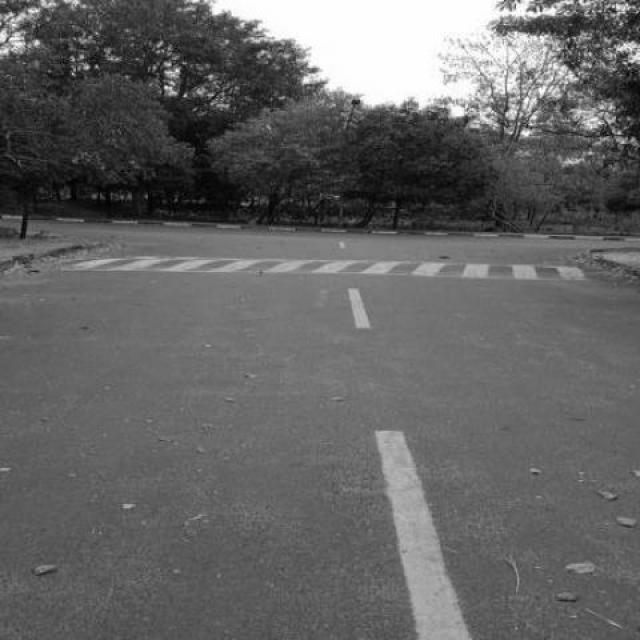Speed Bump: (37, 254, 588, 280)
